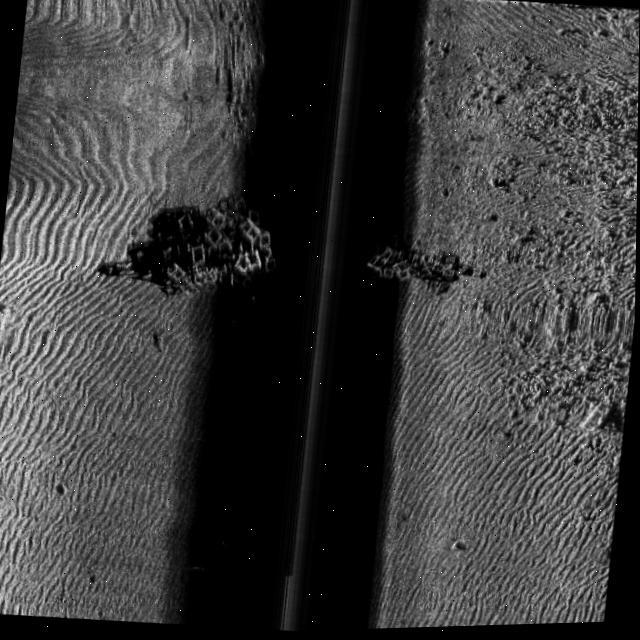artificial reef: (151, 188, 291, 318), (357, 227, 456, 310)
